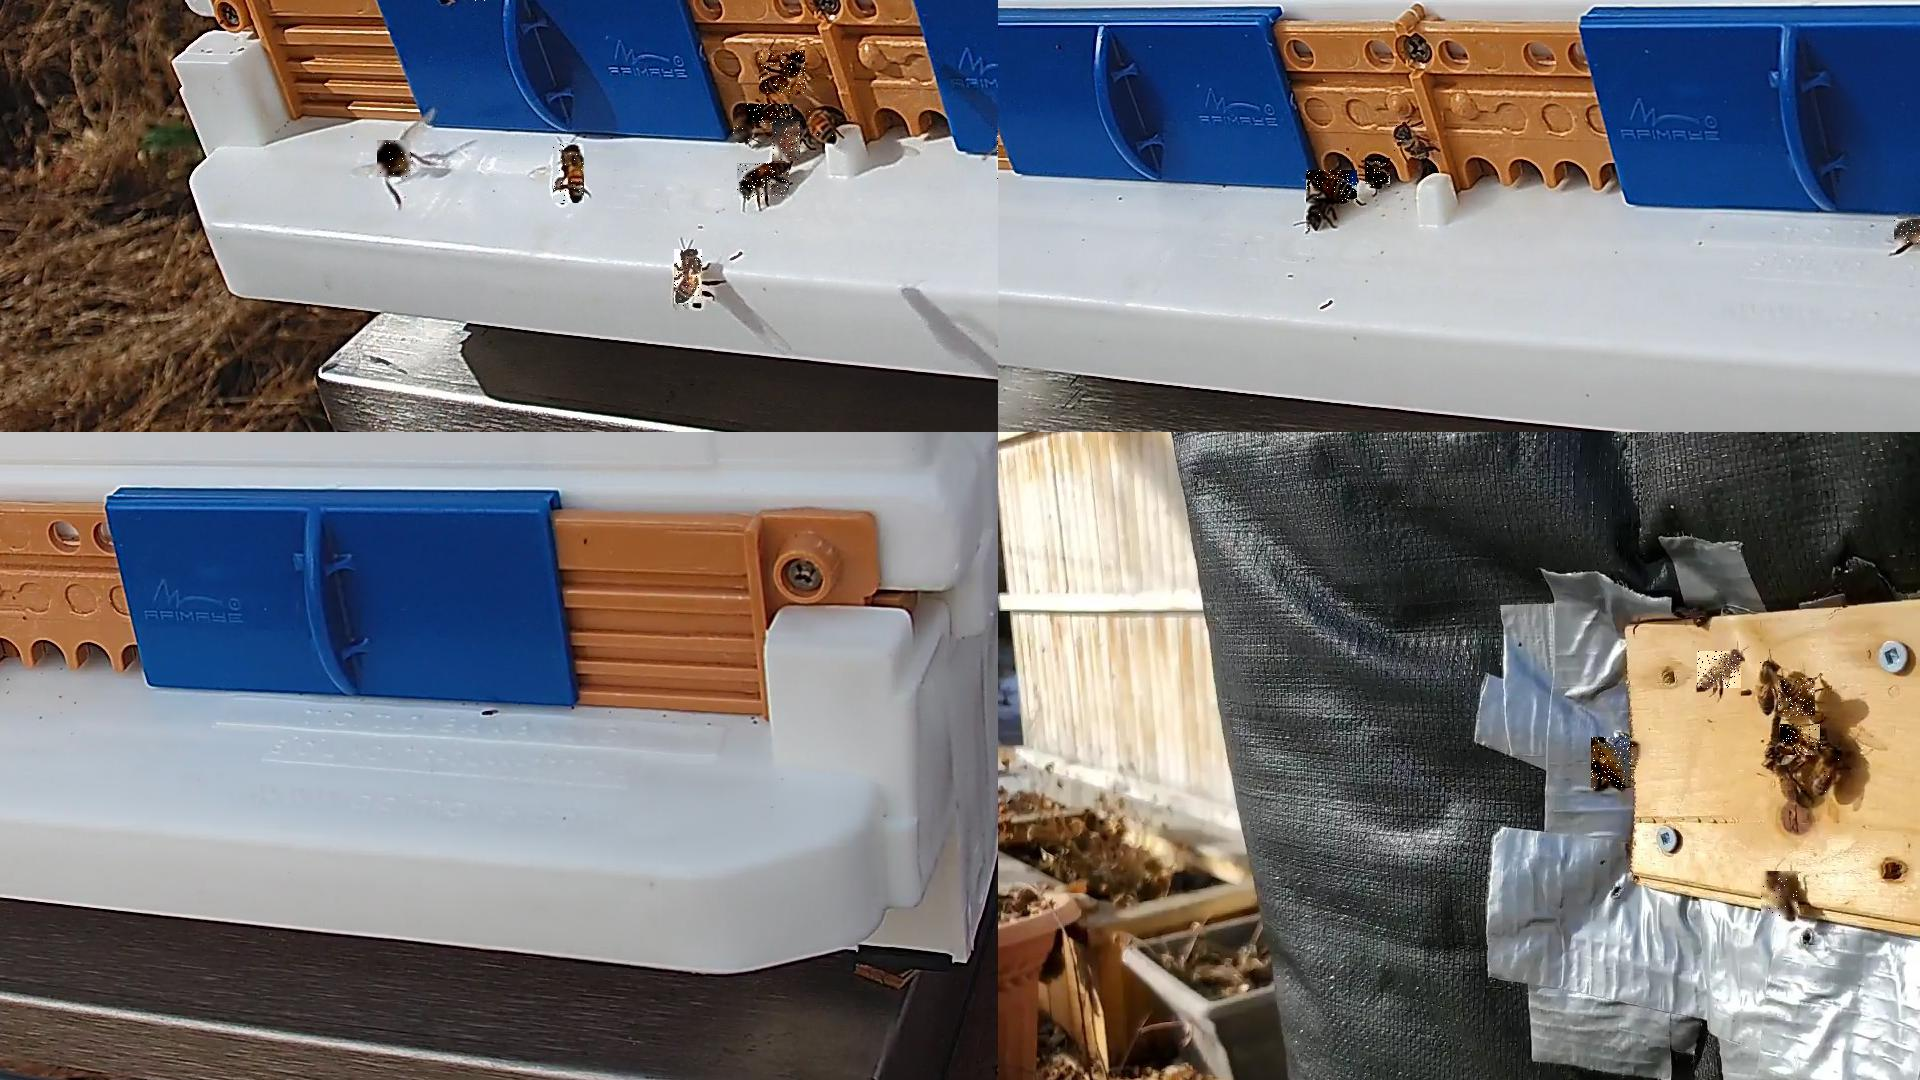bee: (1592, 737, 1635, 789), (760, 50, 806, 95), (737, 164, 790, 199), (1760, 872, 1799, 920), (1697, 651, 1742, 690), (1307, 170, 1358, 203), (674, 249, 703, 307), (1778, 678, 1816, 717), (1811, 752, 1844, 796), (1780, 724, 1825, 756), (378, 140, 414, 178), (1390, 124, 1431, 157), (1307, 189, 1340, 229), (1756, 661, 1780, 715), (771, 121, 800, 162), (806, 108, 837, 145), (746, 105, 794, 127), (1365, 158, 1391, 189), (1894, 219, 1919, 247), (733, 112, 753, 142)
pollenbee: (553, 142, 585, 204)
